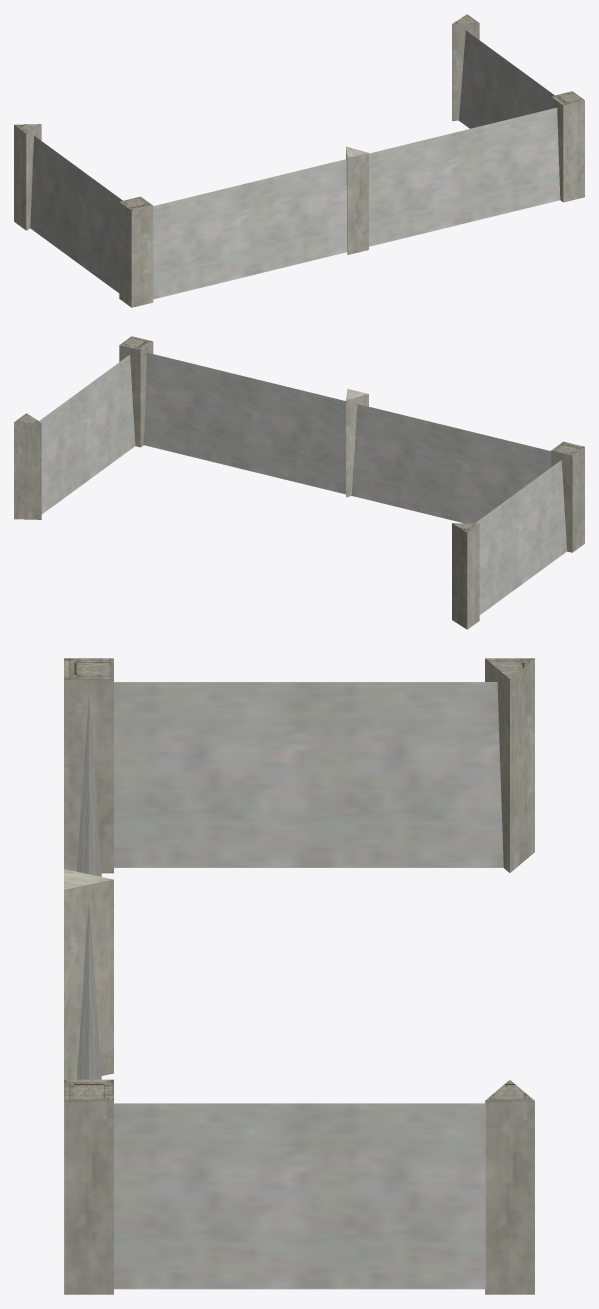
Rendered from poi_corl_corral_half_32x32_s04_l1.fbx.
The picture shows the model from 3 angles, top to bottom: view 1: azimuth 30°, elevation 25°; view 2: azimuth 150°, elevation 25°; view 3: azimuth 270°, elevation 25°; orthographic projection. The views are drawn at different scales.
Parts seen in each view (by area): view 1: mesh_node; view 2: mesh_node; view 3: mesh_node.
Part boxes in pixels (x1,y1,x2,y2): mesh_node: (14,14,584,307); mesh_node: (14,336,584,629); mesh_node: (64,658,534,1294).
Size of the model in its own units: 21 by 4.29 by 9.44.
